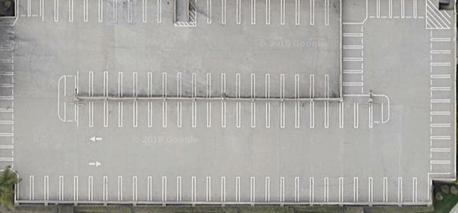parkingspot: (15, 174, 430, 204), (64, 98, 384, 129), (65, 70, 343, 100), (428, 27, 457, 175), (15, 0, 177, 25), (195, 0, 344, 27), (0, 24, 15, 173), (341, 22, 366, 97), (367, 0, 427, 20)
